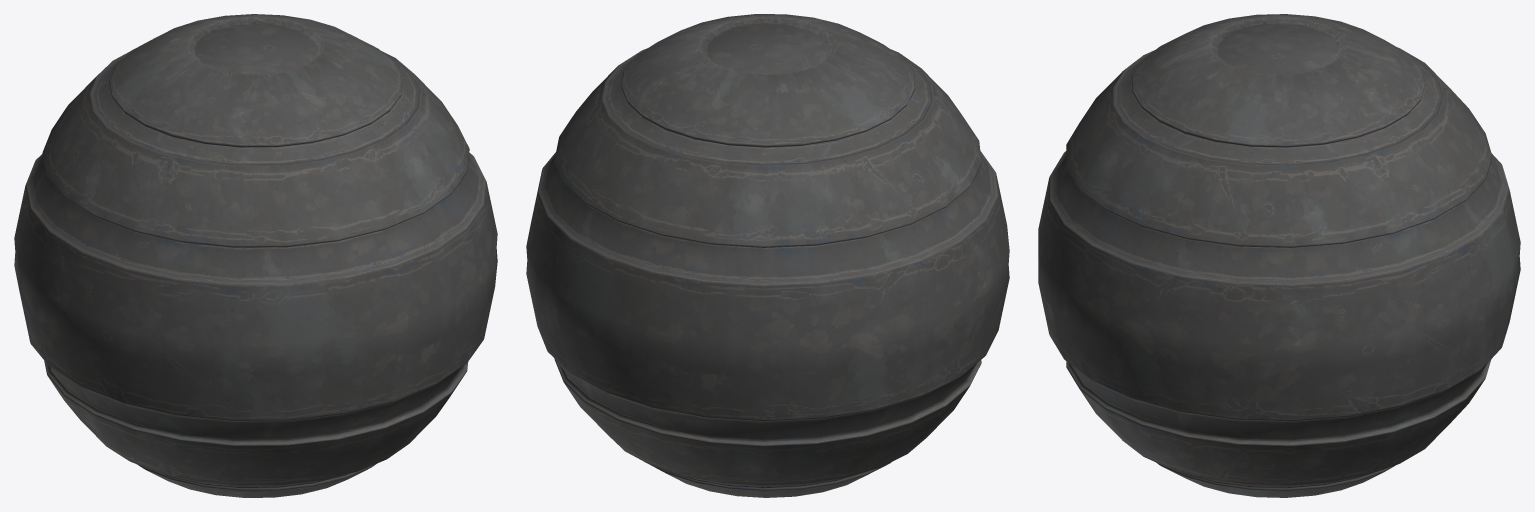
File: stone ball.fbx
The picture shows the model from 3 angles, left to right: view 1: azimuth 30°, elevation 25°; view 2: azimuth 150°, elevation 25°; view 3: azimuth 270°, elevation 25°; orthographic projection.
Parts seen in each view (by area): view 1: Sphere006; view 2: Sphere006; view 3: Sphere006.
Part boxes in pixels (left/top/right/bottom): Sphere006: left=14, top=14, right=497, bottom=497; Sphere006: left=526, top=14, right=1009, bottom=497; Sphere006: left=1038, top=14, right=1520, bottom=497.
Bounding box in the file's own units: 298 × 287 × 298.
